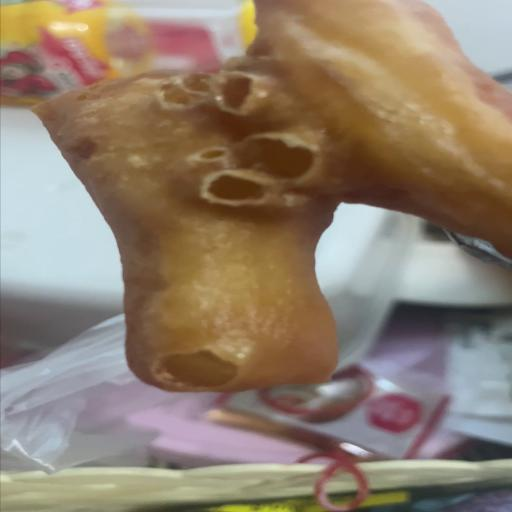street_burnt_defect: (28, 0, 509, 387)
